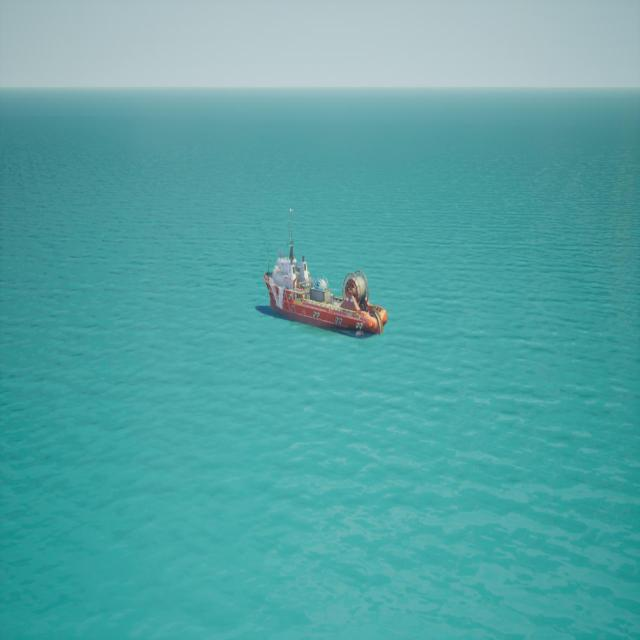tug boat: (257, 207, 389, 344)
